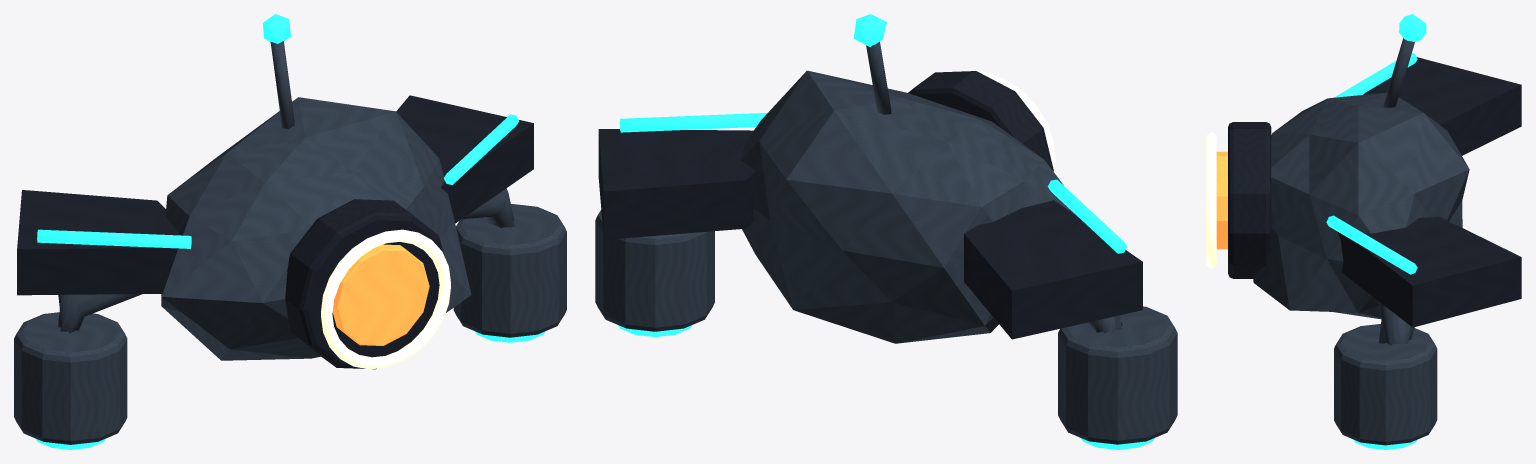
File: ScoutRobot.fbx
3 renders of one model, left to right at view 1: azimuth 30°, elevation 25°; view 2: azimuth 150°, elevation 25°; view 3: azimuth 270°, elevation 25°, orthographic. The views are drawn at different scales.
Parts seen in each view (by area): view 1: SM_ScoutRobot; view 2: SM_ScoutRobot; view 3: SM_ScoutRobot.
Boxes of the visible parts, x1,y1,x2,y2 form: SM_ScoutRobot: (14,14,566,449); SM_ScoutRobot: (595,14,1177,449); SM_ScoutRobot: (1206,14,1521,449).
Bounding box in the file's own units: 208 × 116 × 131.
1 material, 1 textured.
